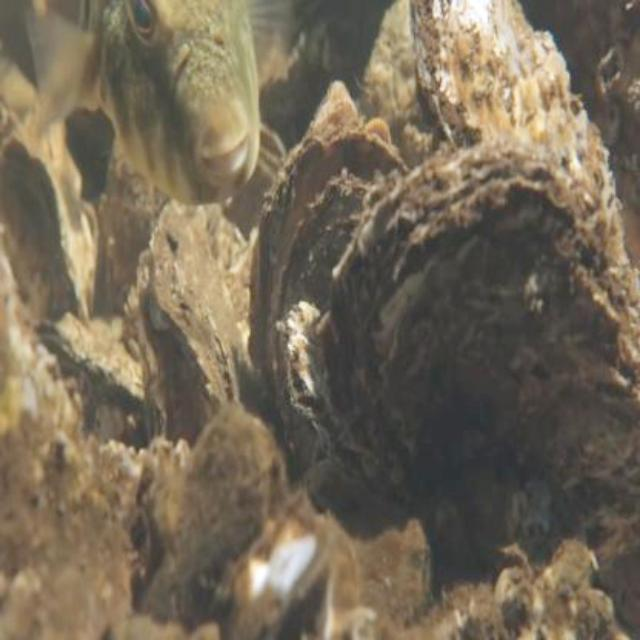Oyster-Closed: (325, 137, 637, 504), (408, 0, 627, 244), (150, 201, 252, 416), (173, 407, 282, 568), (34, 312, 145, 403), (361, 6, 417, 128), (307, 83, 361, 132)
Oyster-Open: (259, 126, 409, 457)
